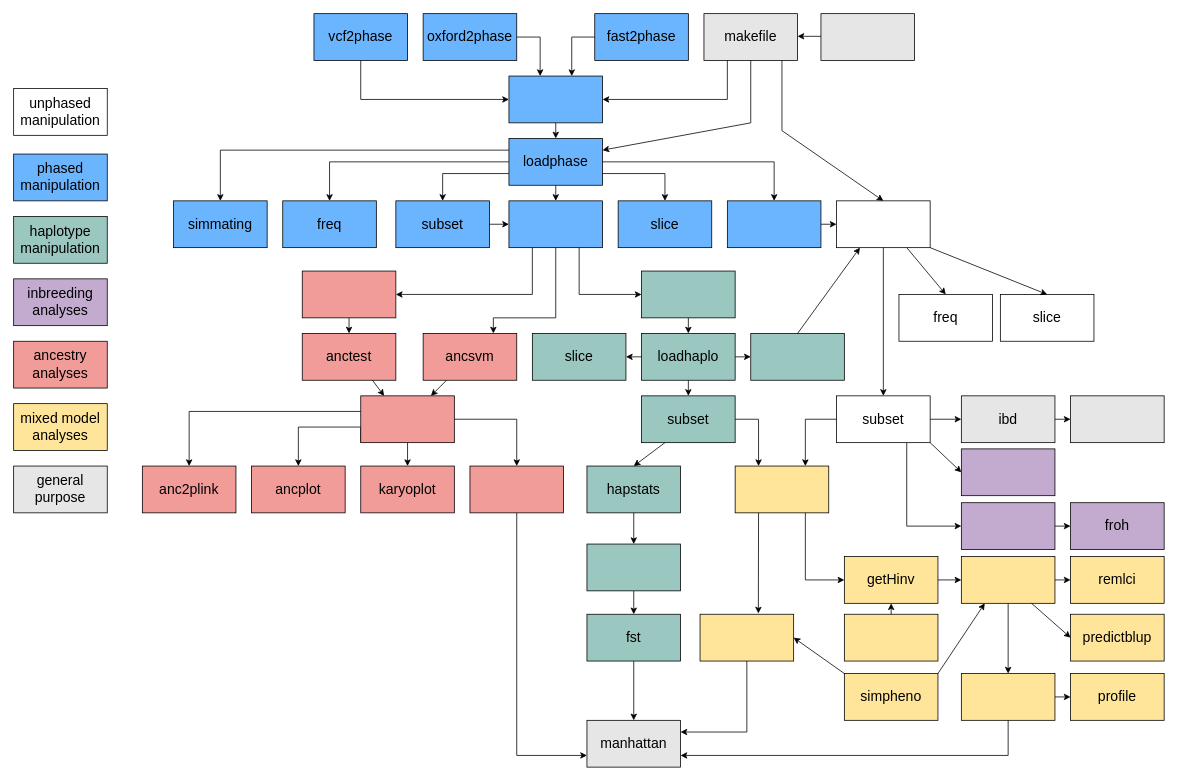
Image size: 1178x781. Some labels were removed from this diagram. The centre of each missing label's shape, as x and y in pixels:
"ancmark" belongs at [516,489].
"ancsmooth" belongs at [407,419].
"anctrain" belongs at [348,294].
"assoc" belongs at [746,637].
"blockgen" belongs at [555,224].
"blockstats" belongs at [633,567].
"compress" belongs at [555,99].
"exfiles" belongs at [867,36].
"hap2plink" belongs at [797,356].
"haplotyping" belongs at [688,294].
"incoef" belongs at [1008,472].
"kinship" belongs at [781,489].
"lmm" belongs at [1008,579].
"loadplink" belongs at [883,224].
"pedcheck" belongs at [891,637].
"phase2plink" belongs at [774,224].
"relfind" belongs at [1117,419].
"roh" belongs at [1008,526].
"varblup" belongs at [1008,696].
